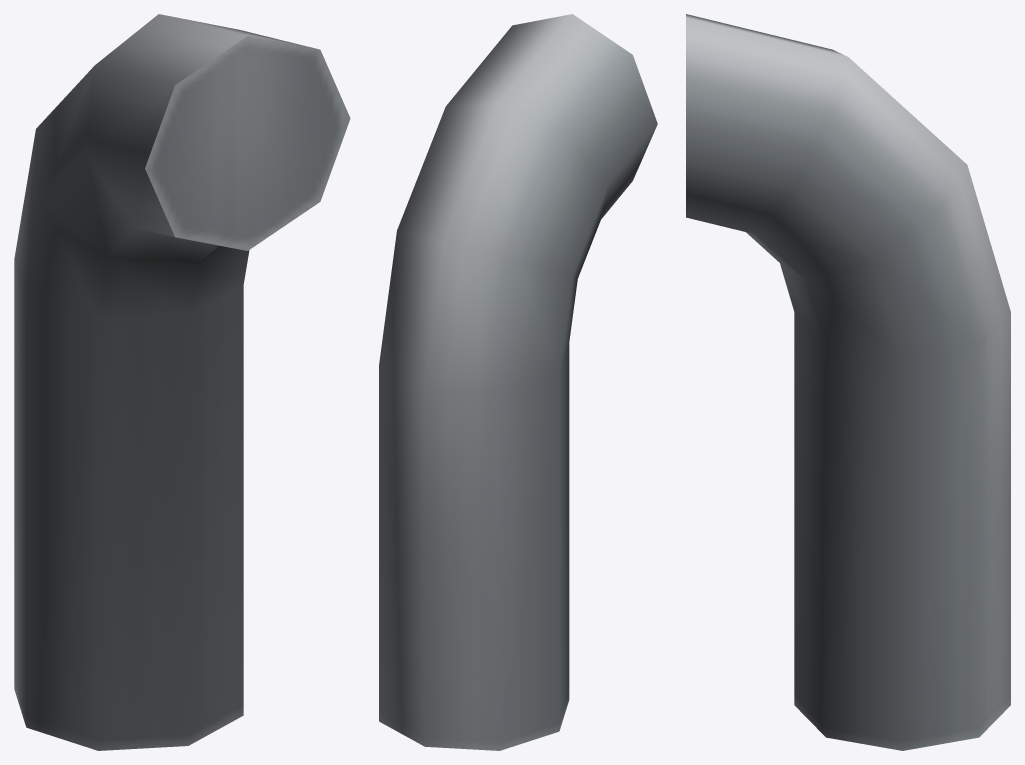
Rendered from set_handrail_straight_end.fbx.
3 renders of one model, left to right at view 1: azimuth 30°, elevation 25°; view 2: azimuth 150°, elevation 25°; view 3: azimuth 270°, elevation 25°, orthographic. The views are drawn at different scales.
Visible parts, largest first — view 1: set_handrail_straight_end; view 2: set_handrail_straight_end; view 3: set_handrail_straight_end.
Part boxes in pixels (x1,y1,x2,y2): set_handrail_straight_end: (14, 14, 350, 750); set_handrail_straight_end: (379, 14, 657, 750); set_handrail_straight_end: (686, 14, 1010, 750).
Size of the model in its own units: 6.29 by 22.03 by 9.44.
